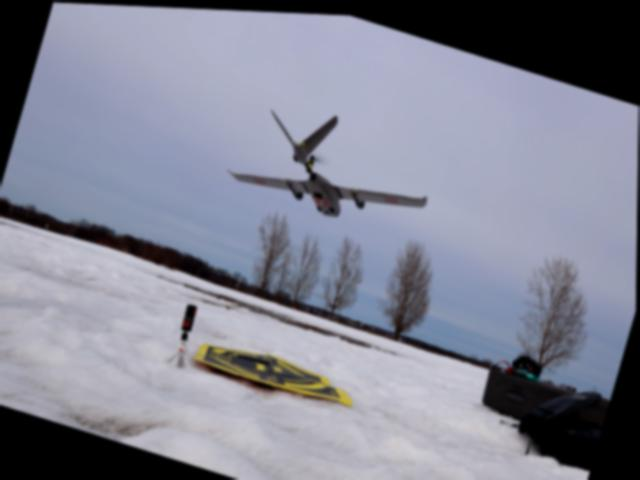plane: (225, 85, 443, 240)
